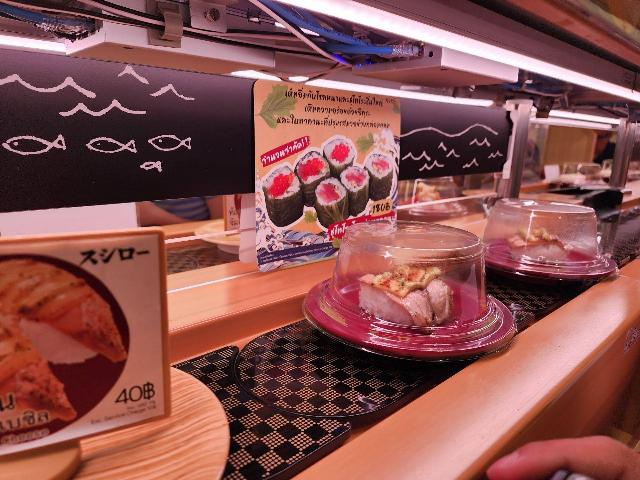janred: (331, 295, 525, 362), (483, 221, 630, 303)
